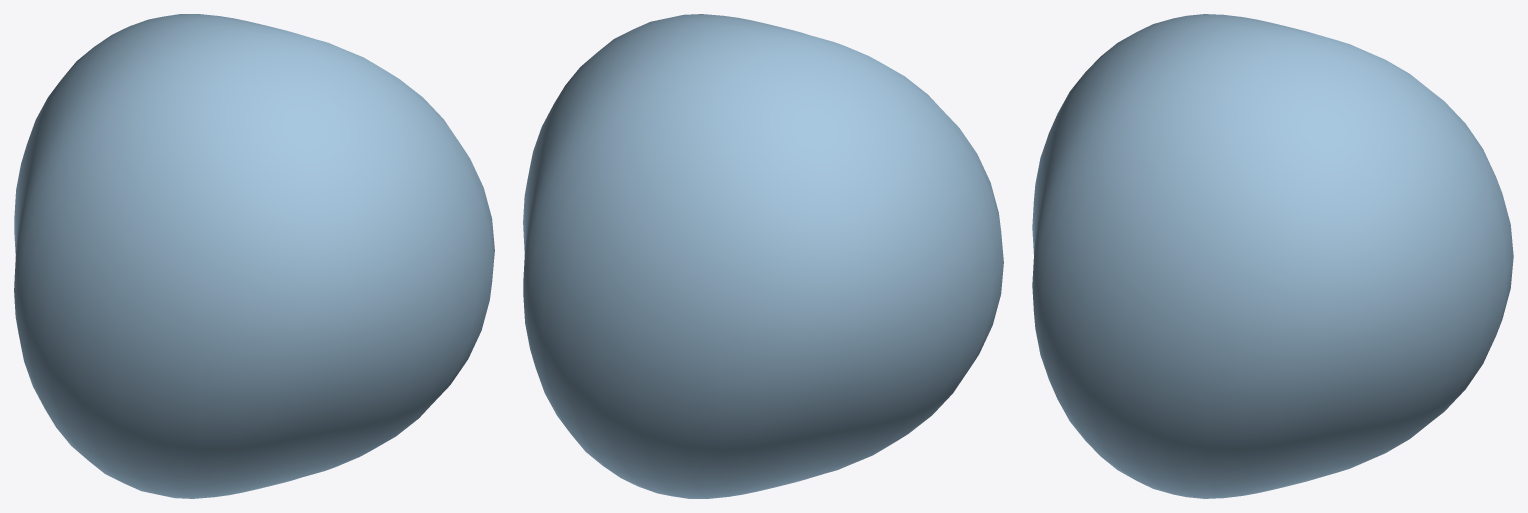
The model's file is airdraw-orb.glb.
3 renders of one model, left to right at view 1: azimuth 30°, elevation 25°; view 2: azimuth 150°, elevation 25°; view 3: azimuth 270°, elevation 25°, orthographic.
Size of the model in its own units: 2.1 by 2 by 2.01.
